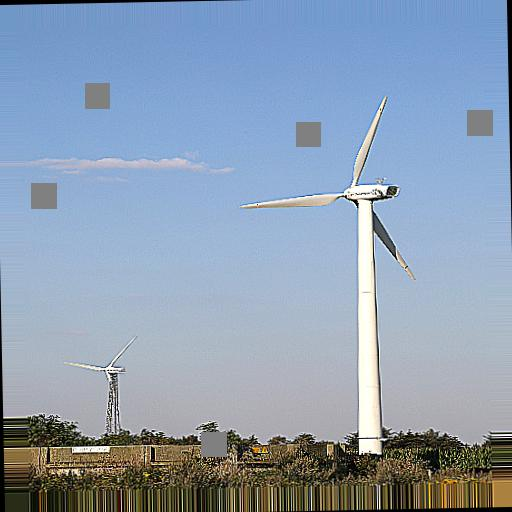wind turbine: (241, 94, 418, 459), (62, 334, 140, 446)
